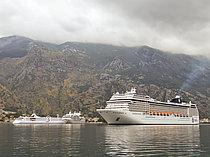Ship: (94, 83, 208, 135)
